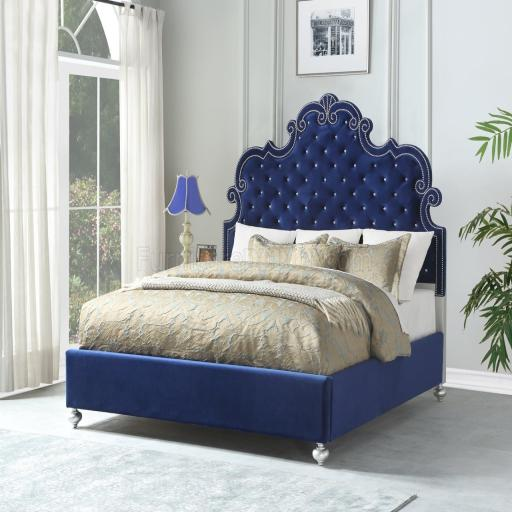bed: (66, 93, 446, 467)
